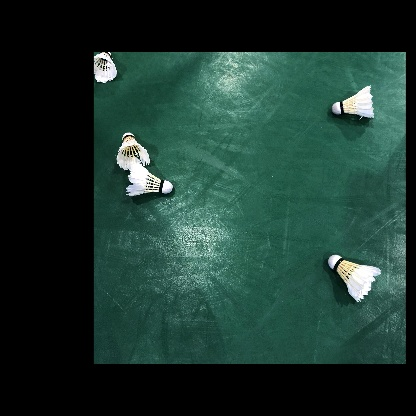ball_single: (328, 254, 381, 302), (126, 162, 173, 196), (332, 86, 374, 118), (116, 132, 150, 170), (94, 52, 117, 83)
